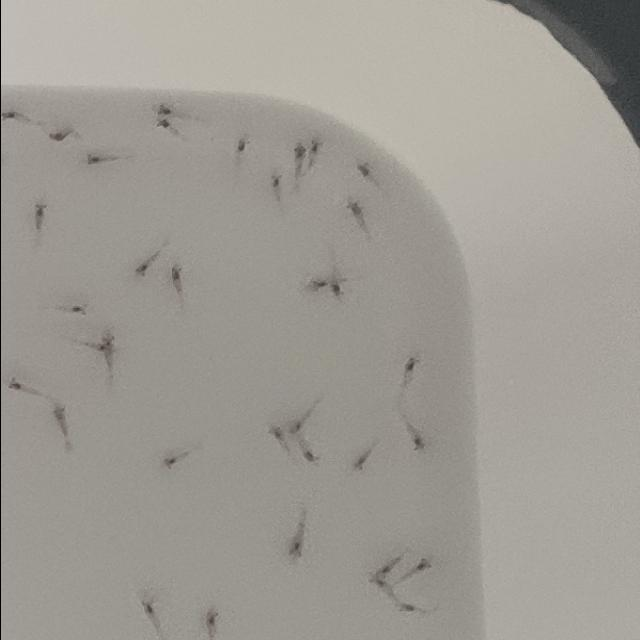shrimp-seed: (200, 608, 220, 628), (284, 541, 304, 561), (48, 406, 68, 426), (138, 600, 156, 620), (4, 377, 24, 395), (156, 456, 176, 474), (230, 137, 250, 155), (342, 201, 362, 219), (412, 558, 434, 574), (352, 162, 370, 180), (371, 562, 391, 578), (32, 204, 48, 224), (66, 304, 88, 318), (402, 357, 420, 374), (81, 153, 100, 169), (266, 423, 282, 442), (306, 278, 326, 293), (326, 283, 344, 299), (289, 144, 305, 162), (46, 131, 66, 145), (300, 450, 316, 467), (266, 173, 282, 190), (396, 601, 414, 616), (350, 456, 365, 474), (366, 575, 385, 589), (154, 104, 172, 118), (308, 137, 322, 155), (286, 422, 302, 437), (167, 268, 181, 284), (95, 344, 112, 356), (153, 119, 170, 131), (0, 109, 14, 123), (132, 266, 146, 280), (98, 334, 114, 346), (411, 438, 424, 452)
